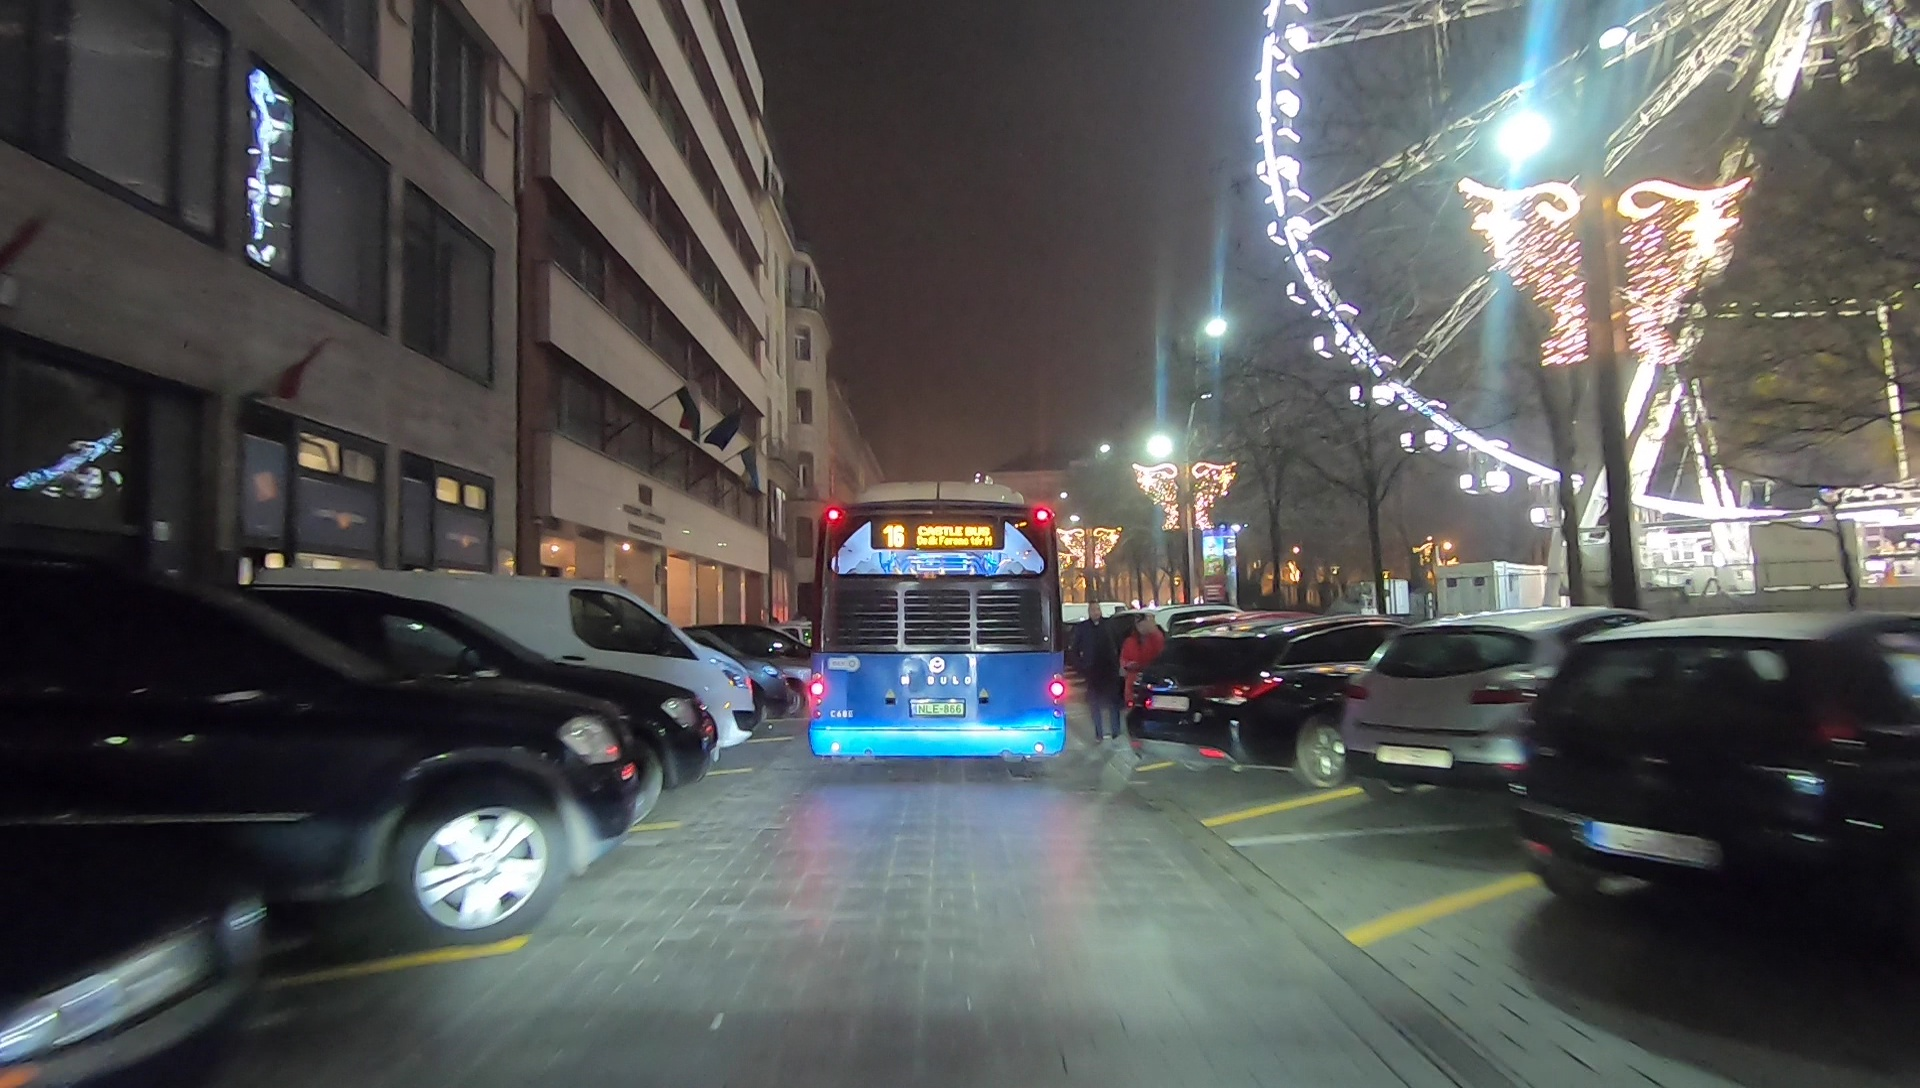person: (1076, 601, 1123, 739), (1124, 612, 1164, 759)
